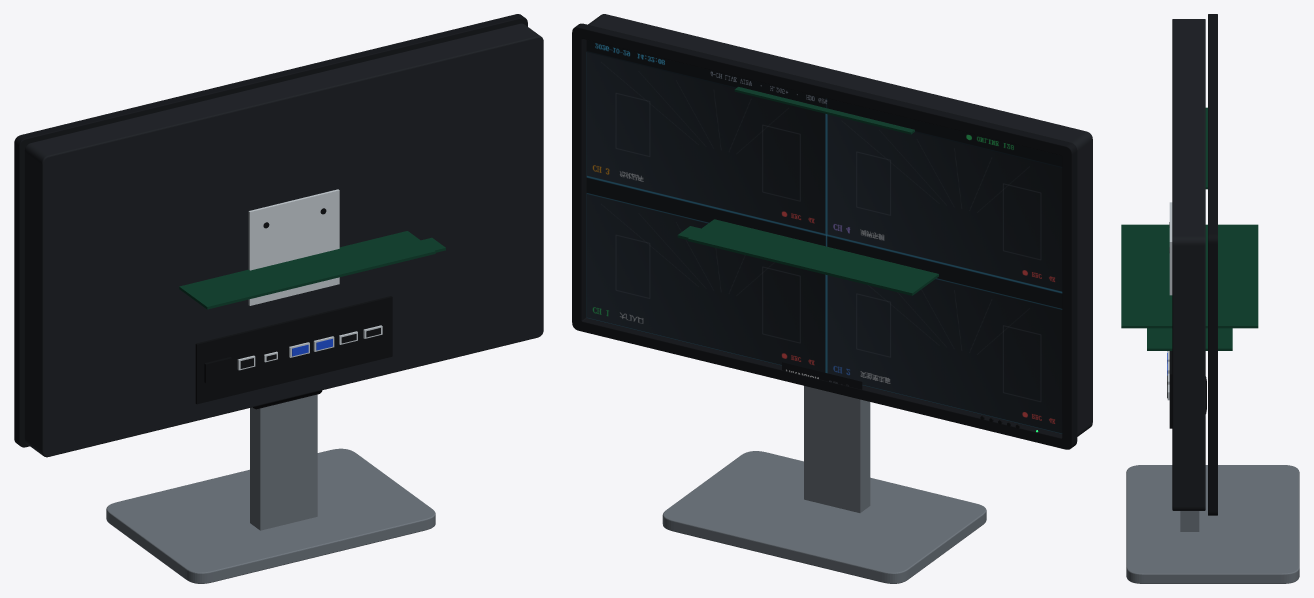
Rendered from monitor-4k.glb.
3 views of the same model, side by side, from view 1: azimuth 30°, elevation 25°; view 2: azimuth 150°, elevation 25°; view 3: azimuth 270°, elevation 25° (orthographic). The views are drawn at different scales.
Parts seen in each view (by area): view 1: Mon_BackCover, Mon_StandBase, MonBlackPlastic_06, Mon_FrontBezel, Mon_StandNeck, Mon_MainPcb, MonNickel_01; view 2: Mon_Screen, Mon_FrontBezel, Mon_StandBase, Mon_BackCover, Mon_StandNeck, Mon_MainPcb, MonPcbGreen_39, MonLogoPlate_21; view 3: Mon_StandBase, Mon_BackCover, Mon_MainPcb, Mon_FrontBezel, Mon_PowerPcb, Mon_StandNeck, MonNickel_01, MonBlackPlastic_06.
Part boxes in pixels (box(x1,y1,x2,y2)): Mon_BackCover: box(24, 23, 543, 457); Mon_StandBase: box(106, 448, 435, 583); MonBlackPlastic_06: box(195, 296, 392, 404); Mon_FrontBezel: box(14, 14, 527, 447); Mon_StandNeck: box(250, 394, 317, 530); Mon_MainPcb: box(179, 231, 435, 309); MonNickel_01: box(248, 189, 339, 305); Mon_Screen: box(586, 40, 1062, 433); Mon_FrontBezel: box(572, 23, 1077, 449); Mon_StandBase: box(662, 451, 986, 583); Mon_BackCover: box(588, 14, 1092, 436); Mon_StandNeck: box(804, 386, 870, 512); Mon_MainPcb: box(687, 219, 938, 295); MonPcbGreen_39: box(734, 87, 914, 134); MonLogoPlate_21: box(782, 362, 862, 389); Mon_StandBase: box(1126, 465, 1299, 583); Mon_BackCover: box(1172, 19, 1205, 510); Mon_MainPcb: box(1121, 224, 1258, 328); Mon_FrontBezel: box(1208, 14, 1217, 515); Mon_PowerPcb: box(1147, 328, 1232, 350); Mon_StandNeck: box(1180, 511, 1199, 531); MonNickel_01: box(1169, 202, 1172, 295); MonBlackPlastic_06: box(1169, 351, 1172, 428).
Bounding box in the file's own units: 0.6236 × 0.522 × 0.2082.
18 materials, 2 textured.
